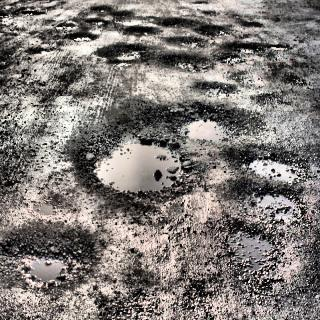pothole: (86, 104, 192, 214), (9, 228, 94, 305), (161, 46, 245, 102), (182, 95, 255, 158), (220, 222, 288, 286), (241, 150, 301, 193), (236, 193, 298, 218), (102, 40, 148, 70), (194, 18, 232, 45), (119, 22, 161, 42), (63, 30, 97, 51), (82, 14, 110, 34), (160, 18, 198, 30)
